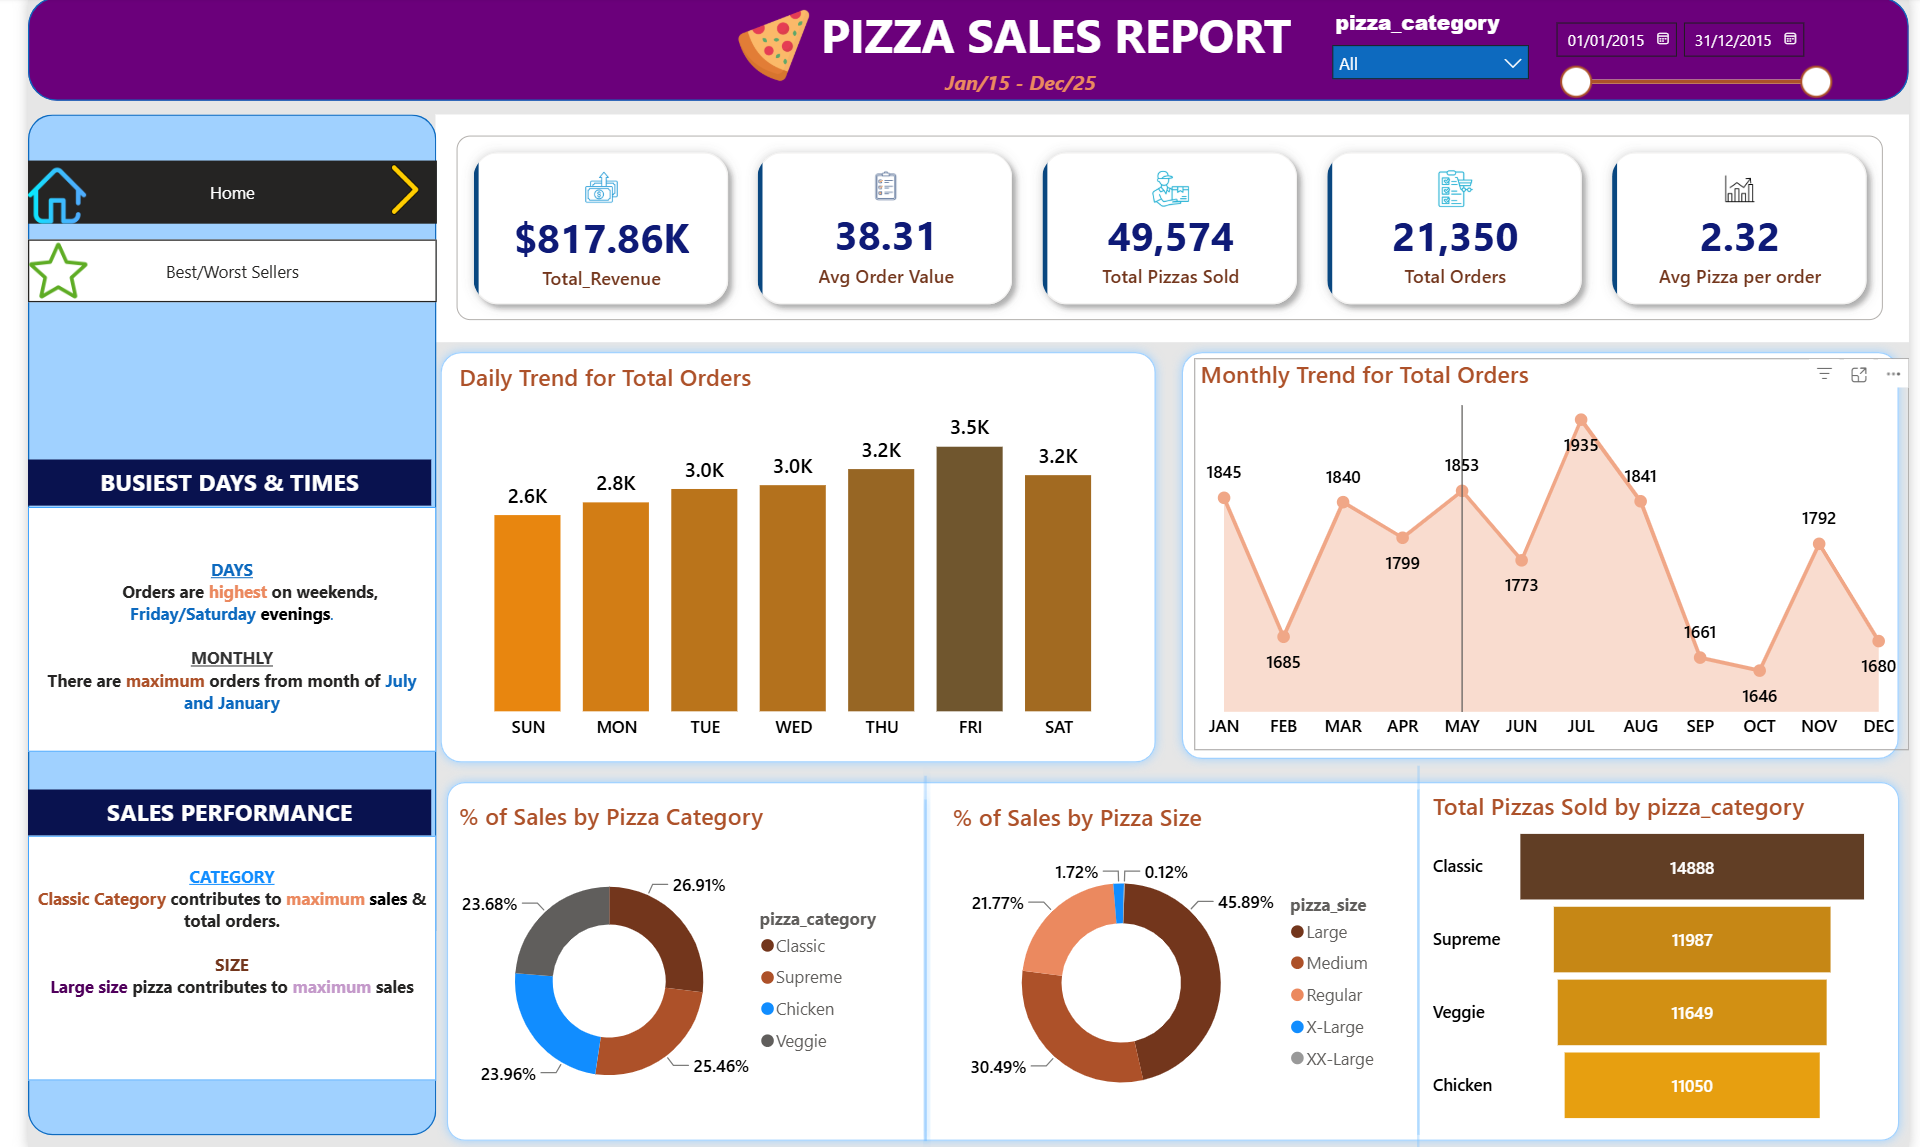

The dashboard page shown, as its layout file describes it:
{"tool":"powerbi","page":{"name":"Home","canvas":[1500,920],"ordinal":0},"visuals":[{"type":"cardVisual","fields":{"Data":["pizza_sales pizza_sales.Total_Revenue","pizza_sales pizza_sales.Avg Order Value","pizza_sales pizza_sales.Total Pizzas Sold","pizza_sales pizza_sales.Total Orders","pizza_sales pizza_sales.Avg Pizza per order"]},"box":[325,93.8,1175,181.2],"z":0},{"type":"shape","box":[0,0,1500,82.8],"z":1000},{"type":"textbox","box":[565.6,0,509.4,68.8],"z":2000},{"type":"textbox","box":[698.4,51.6,185.9,31.2],"z":3000},{"type":"image","box":[565.6,9.4,59.4,59.4],"z":4000},{"type":"shape","box":[321.4,274.7,586.5,343.4],"z":5000},{"type":"shape","box":[0,93.6,325.6,814.1],"z":6000},{"type":"clusteredColumnChart","title":"Daily Trend for Total Orders","fields":{"Category":["pizza_sales pizza_sales.Order Day"],"Y":["pizza_sales pizza_sales.Total Orders"]},"box":[339.3,289.8,544,311.8],"z":7000},{"type":"shape","box":[912.1,274.7,587.9,340.7],"z":8000},{"type":"areaChart","title":"Monthly Trend for Total Orders","fields":{"Category":["pizza_sales pizza_sales.Month Name"],"Y":["pizza_sales pizza_sales.Total Orders"]},"box":[929.9,288.5,570.1,313.2],"z":9000},{"type":"shape","box":[325.5,618.1,1174.5,302.2],"z":10000},{"type":"donutChart","title":"% of Sales by Pizza Category","fields":{"Category":["pizza_sales pizza_sales.pizza_category"],"Y":["pizza_sales pizza_sales.Total_Revenue"]},"box":[339.3,640.1,358.5,265.1],"z":11000},{"type":"shape","box":[707.5,613.3,12.4,307.2],"z":12000,"group":"g1"},{"type":"shape","box":[707.4,631.9,12.4,288.5],"z":12000},{"type":"shape","box":[1103,613.1,12.8,294.3],"z":13000,"group":"g1"},{"type":"shape","box":[1103,631.9,12.4,288.5],"z":13000},{"type":"donutChart","title":"% of Sales by Pizza Size","fields":{"Category":["pizza_sales pizza_sales.pizza_size"],"Y":["pizza_sales pizza_sales.Total_Revenue"]},"box":[732.5,641.5,358.8,266.2],"z":14000},{"type":"funnel","fields":{"Category":["pizza_sales pizza_sales.pizza_category"],"Y":["pizza_sales pizza_sales.Total Pizzas Sold"]},"box":[1115.4,632.1,359,273.1],"z":15000},{"type":"textbox","box":[0,369.2,321.8,37.2],"z":16000},{"type":"textbox","box":[0,406.4,325.6,194.9],"z":17000},{"type":"textbox","box":[0,632.1,321.8,37.2],"z":18000},{"type":"textbox","box":[0,669.2,325.6,194.9],"z":19000},{"type":"pageNavigator","box":[0,130.8,326.9,50],"z":19001,"group":"g1"},{"type":"slicer","fields":{"Values":["pizza_sales pizza_sales.pizza_category"]},"box":[1029.5,3.8,176.9,78.2],"z":20000},{"type":"slicer","fields":{"Values":["pizza_sales pizza_sales.order_date"]},"box":[1206.4,10.3,241,83.3],"z":21000},{"type":"image","box":[275.6,133.4,51.3,39.7],"z":21003,"group":"g1"},{"type":"pageNavigator","box":[0,193.6,326.9,50],"z":22000},{"type":"group","id":"g1","title":"Group 1","box":[0,130.8,1115.8,789.7],"z":23000},{"type":"image","box":[0,133.3,46.2,50],"z":24000},{"type":"image","box":[1.3,193.6,46.2,50],"z":25000}]}

Visuals, with their boxes in screenshot pixels (x1, y1, x2, y2), scaled from the page's 1500x920 canvas onto the 1920x1147 screenshot:
cardVisual - pizza_sales pizza_sales.Total_Revenue x pizza_sales pizza_sales.Avg Order Value: select_region(416, 117, 1919, 343)
shape: select_region(0, 0, 1919, 103)
textbox: select_region(724, 0, 1376, 86)
textbox: select_region(894, 64, 1132, 103)
image: select_region(724, 12, 800, 86)
shape: select_region(411, 342, 1162, 771)
shape: select_region(0, 117, 417, 1132)
"Daily Trend for Total Orders" clusteredColumnChart: select_region(434, 361, 1131, 750)
shape: select_region(1167, 342, 1919, 767)
"Monthly Trend for Total Orders" areaChart: select_region(1190, 360, 1919, 750)
shape: select_region(417, 771, 1919, 1146)
"% of Sales by Pizza Category" donutChart: select_region(434, 798, 893, 1129)
shape: select_region(906, 765, 921, 1146)
shape: select_region(905, 788, 921, 1146)
shape: select_region(1412, 764, 1428, 1131)
shape: select_region(1412, 788, 1428, 1146)
"% of Sales by Pizza Size" donutChart: select_region(938, 800, 1397, 1132)
funnel - pizza_sales pizza_sales.pizza_category x pizza_sales pizza_sales.Total Pizzas Sold: select_region(1428, 788, 1887, 1129)
textbox: select_region(0, 460, 412, 507)
textbox: select_region(0, 507, 417, 750)
textbox: select_region(0, 788, 412, 834)
textbox: select_region(0, 834, 417, 1077)
pageNavigator: select_region(0, 163, 418, 225)
slicer - pizza_sales pizza_sales.pizza_category: select_region(1318, 5, 1544, 102)
slicer - pizza_sales pizza_sales.order_date: select_region(1544, 13, 1853, 117)
image: select_region(353, 166, 418, 216)
pageNavigator: select_region(0, 241, 418, 304)
"Group 1" group: select_region(0, 163, 1428, 1146)
image: select_region(0, 166, 59, 229)
image: select_region(2, 241, 61, 304)
